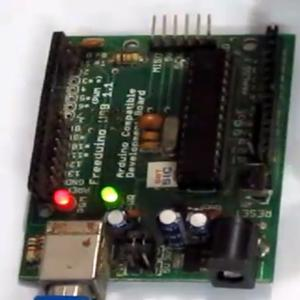duino: (23, 25, 294, 290)
